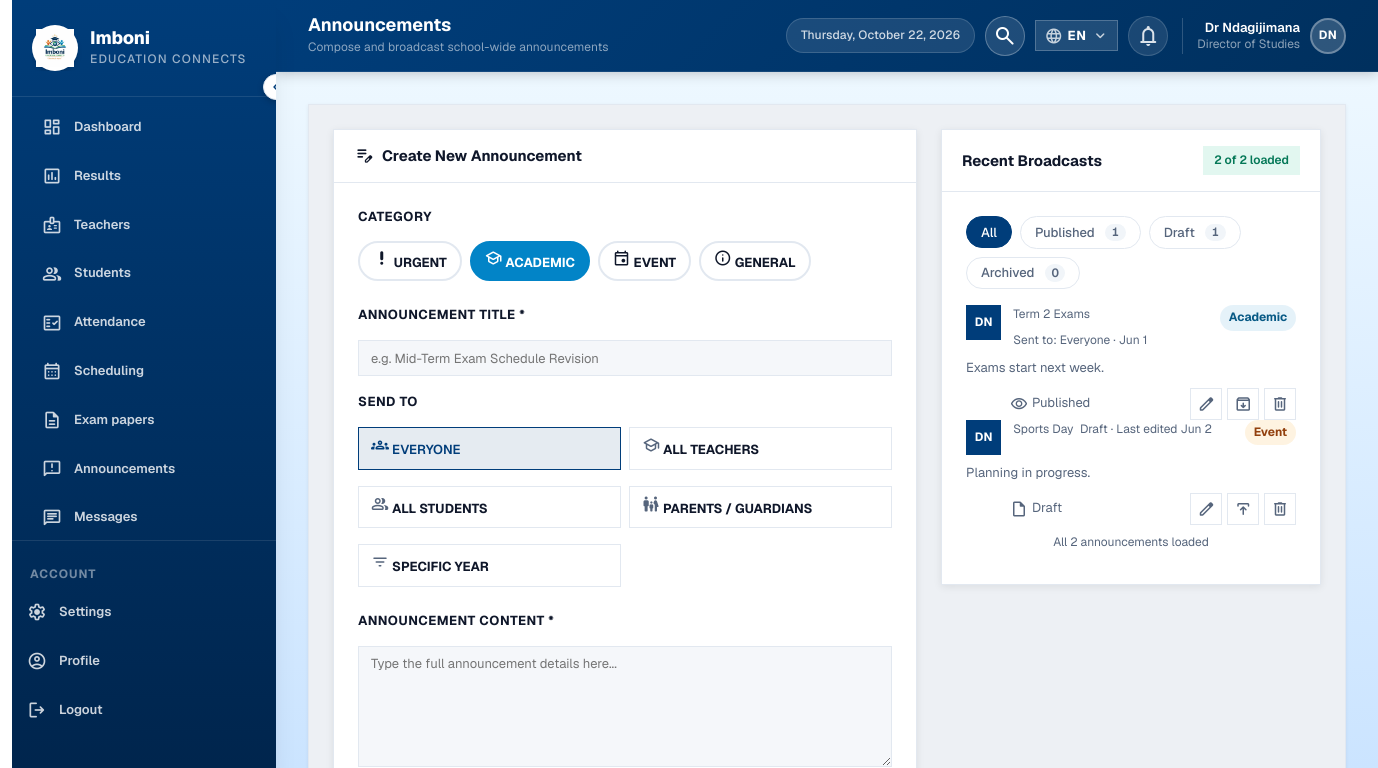
Scenario: DosAnnouncement › filter pills narrow the list client-side without refetching
The width and height of the screenshot is (1378, 768).
Expected: the text "Term 2 Exams" is shown, [1013, 305, 1090, 324]
Click the button "Draft 1".
click(1195, 232)  # box [1149, 216, 1241, 249]
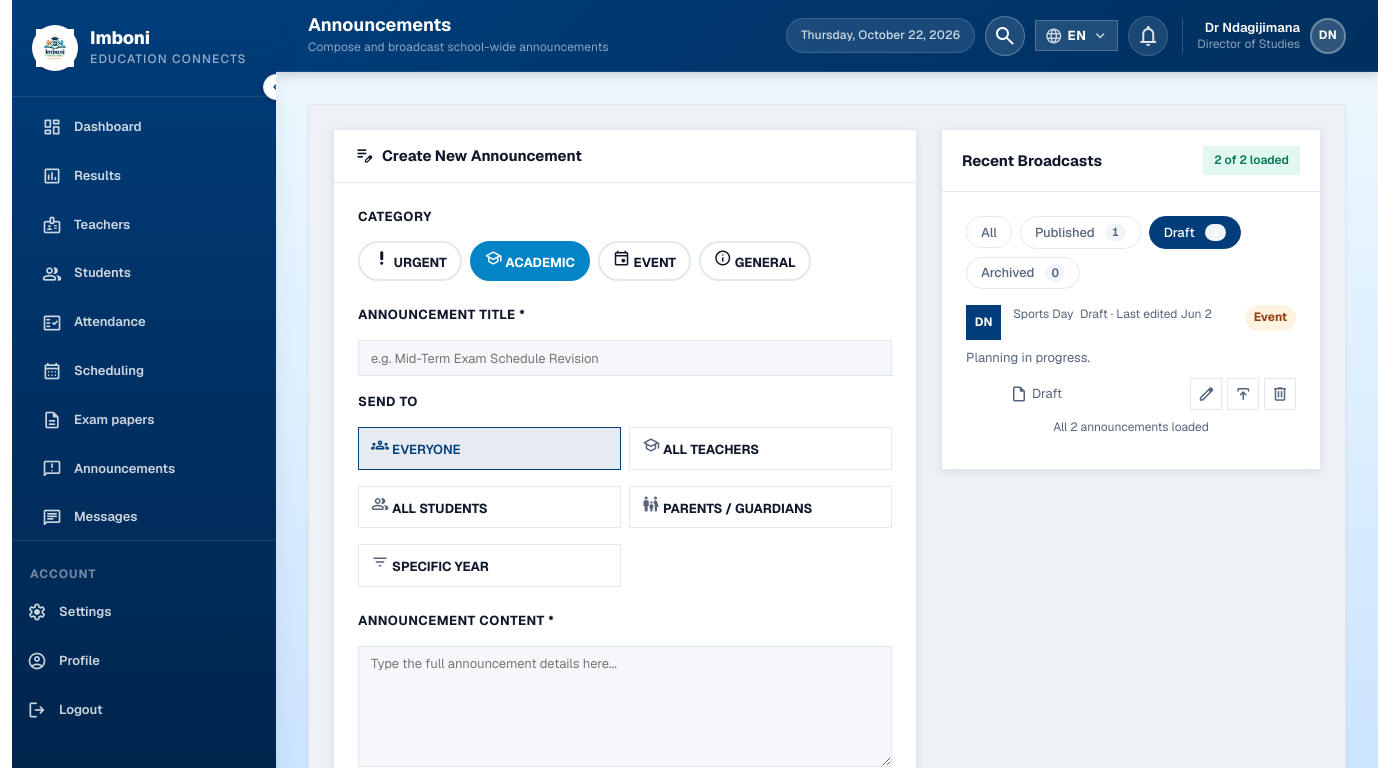
Expected: the text "Sports Day" is shown, [1013, 305, 1074, 324]
Expected: the text "Term 2 Exams" is gone
